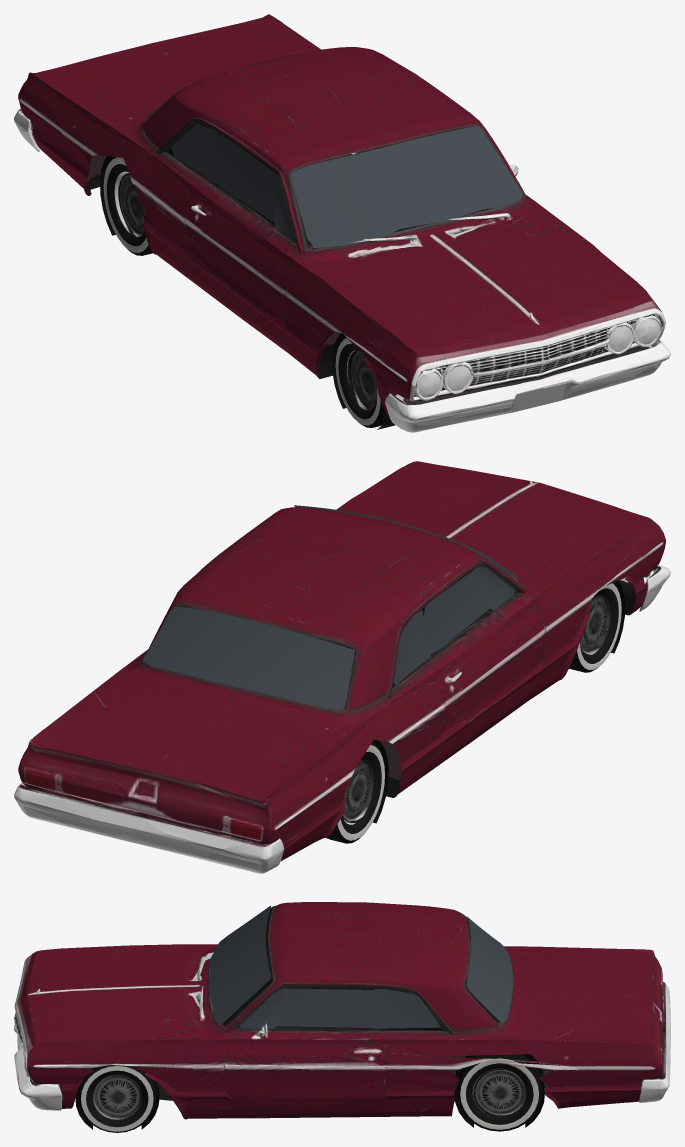
Rendered from lowrider.glb.
3 renders of one model, top to bottom at view 1: azimuth 30°, elevation 25°; view 2: azimuth 150°, elevation 25°; view 3: azimuth 270°, elevation 25°, orthographic. The views are drawn at different scales.
Parts seen in each view (by area): view 1: body, glass, wheel_rr, wheel_fr; view 2: body, glass, wheel_rr, wheel_fr; view 3: body, glass, wheel_rl, wheel_fl.
Part boxes in pixels (x1=…): body: x1=14, y1=14, x2=670, y2=432; glass: x1=144, y1=58, x2=523, y2=247; wheel_rr: x1=103, y1=156, x2=152, y2=255; wheel_fr: x1=335, y1=335, x2=386, y2=427; body: x1=14, y1=461, x2=670, y2=873; glass: x1=143, y1=505, x2=521, y2=709; wheel_rr: x1=327, y1=742, x2=384, y2=843; wheel_fr: x1=569, y1=580, x2=621, y2=672; body: x1=14, y1=902, x2=670, y2=1129; glass: x1=208, y1=906, x2=513, y2=1028; wheel_rl: x1=457, y1=1054, x2=541, y2=1131; wheel_fl: x1=78, y1=1065, x2=156, y2=1132.
Size of the model in its own units: 2.01 by 1.38 by 5.35.
Materials: 3 (2 with a texture image).
